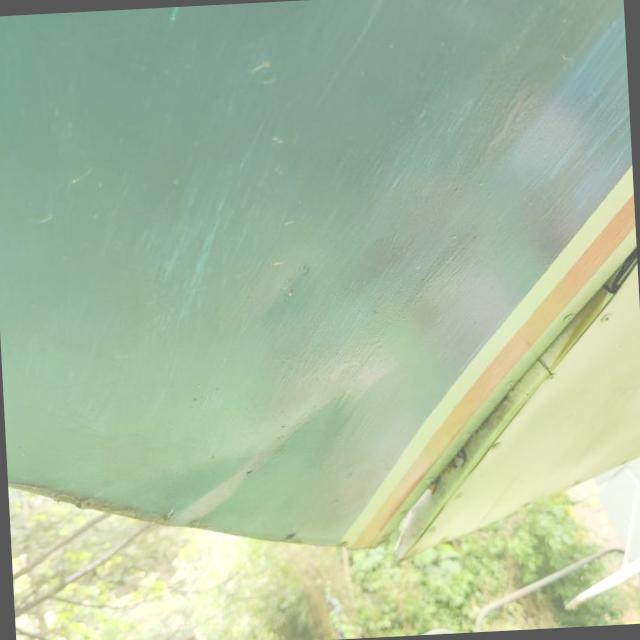dent: (125, 348, 412, 558), (228, 227, 346, 350)
